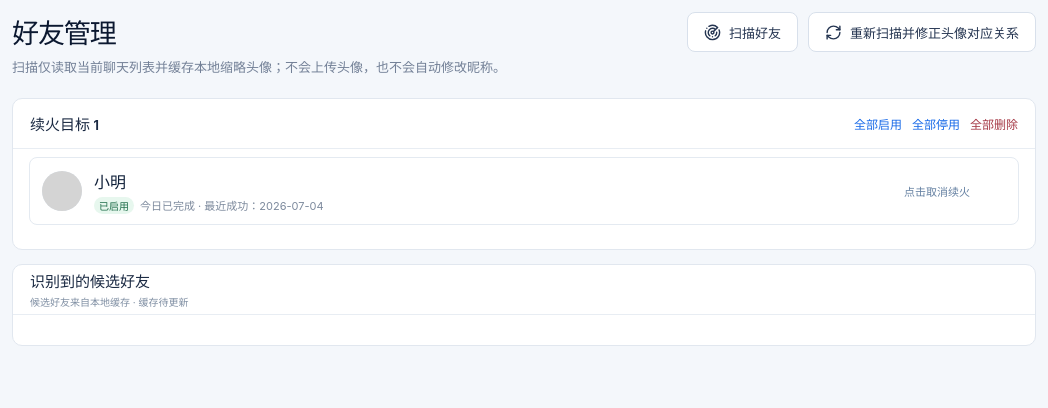
Test: keeps the immediate re-add action available without a discovery cache
Click the button "取消续火 小明". click: {"x": 62, "y": 191}
box: top-left (29, 157), bottom-right (1019, 225)
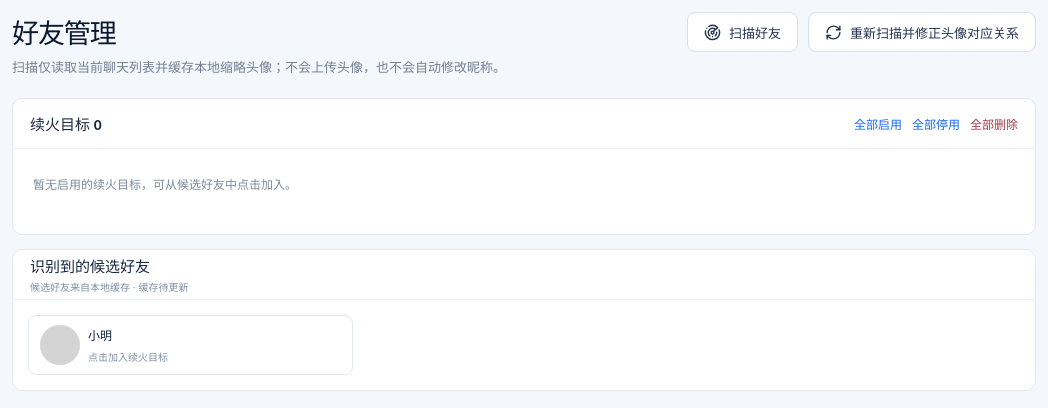
Check: the button with aria-label "加入续火 小明" is shown, box top-left (28, 315), bottom-right (353, 375)
